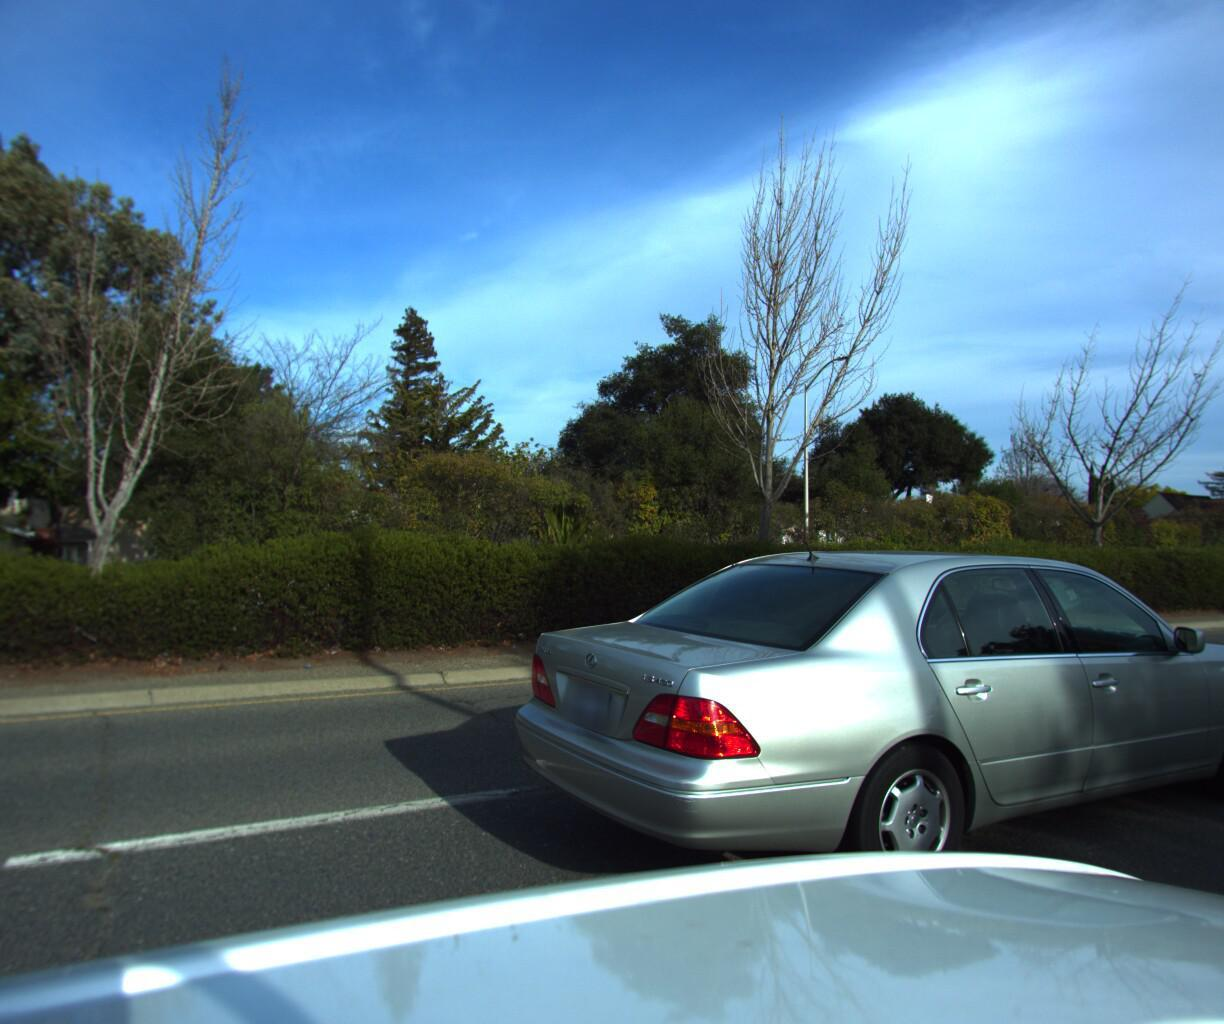car: (495, 547, 1224, 1001)
